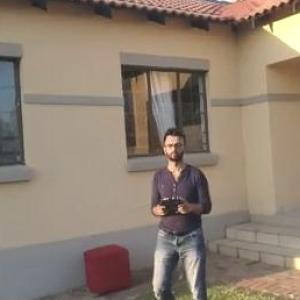follow: (132, 124, 210, 299)
